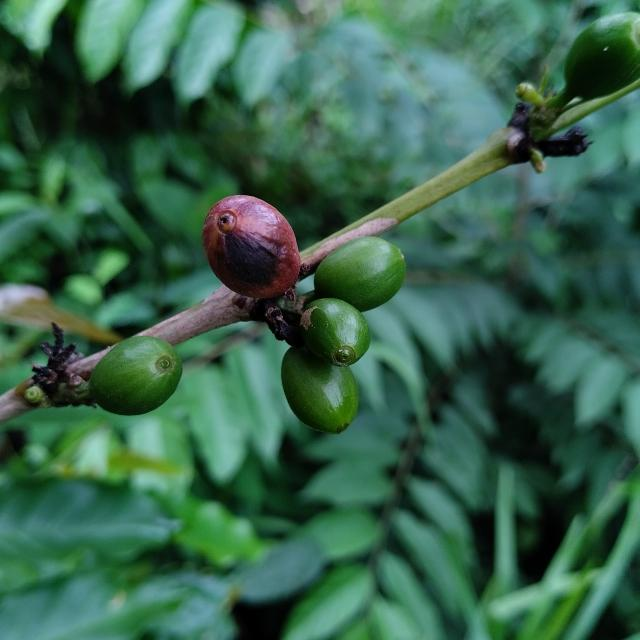green: (89, 336, 182, 416), (314, 236, 406, 312), (565, 11, 640, 102), (281, 347, 359, 434), (300, 298, 370, 367)
red: (202, 195, 300, 298)
